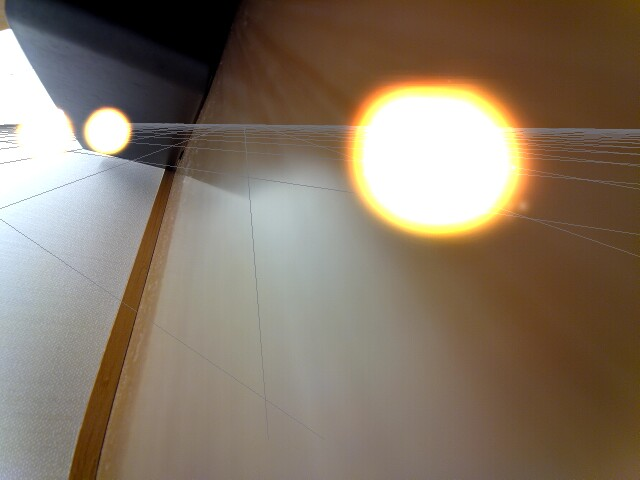firebig: (341, 75, 532, 253)
